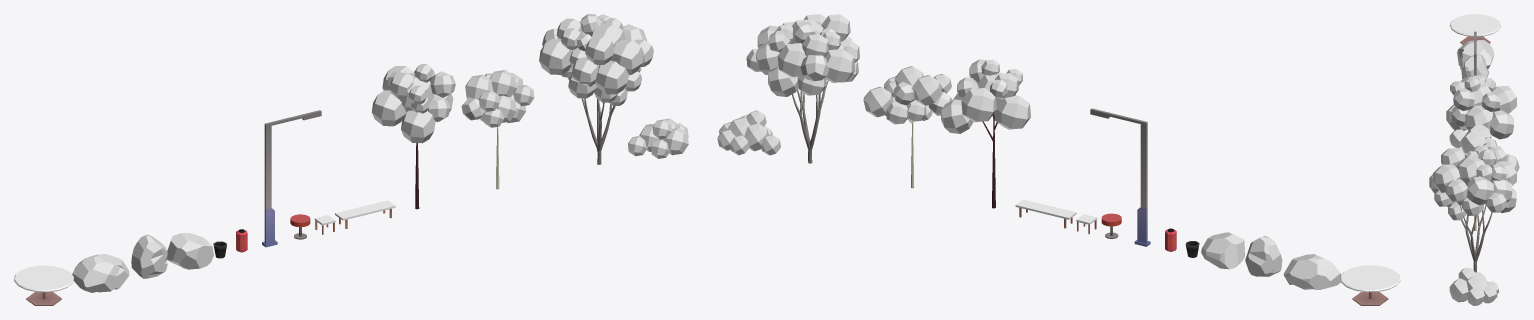
The model's file is props.fbx.
3 renders of one model, left to right at view 1: azimuth 30°, elevation 25°; view 2: azimuth 150°, elevation 25°; view 3: azimuth 270°, elevation 25°, orthographic. The views are drawn at different scales.
Parts seen in each view (by area): view 1: stone1, lamppost, stone3, table, stone2, bush.015, bush.034, bush.046, bush.054, bush.025, bush.050, tree (+7 smaller); view 2: stone1, lamppost, table, stone3, stone2, bush.041, bush.046, bush.015, tree, bush.037, bush.020, bush.044 (+8 smaller); view 3: table, tree, stone1, bush.052, bush.037, bush.025, bush.040, bush.027, bush.041, stone2, bush.016, bush.036 (+33 smaller).
Part boxes in pixels (x1=…): stone1: x1=72, y1=254, x2=129, y2=292; lamppost: x1=262, y1=110, x2=321, y2=247; stone3: x1=167, y1=233, x2=213, y2=269; table: x1=14, y1=265, x2=73, y2=292; stone2: x1=131, y1=234, x2=167, y2=278; bush.015: x1=539, y1=39, x2=572, y2=74; bush.034: x1=401, y1=110, x2=435, y2=143; bush.046: x1=371, y1=90, x2=405, y2=126; bush.054: x1=595, y1=60, x2=628, y2=94; bush.025: x1=610, y1=39, x2=643, y2=74; bush.050: x1=585, y1=35, x2=614, y2=64; tree: x1=581, y1=65, x2=615, y2=164; stone1: x1=1283, y1=254, x2=1341, y2=289; lamppost: x1=1090, y1=108, x2=1150, y2=246; table: x1=1340, y1=265, x2=1400, y2=292; stone3: x1=1201, y1=232, x2=1244, y2=269; stone2: x1=1245, y1=235, x2=1282, y2=276; bush.041: x1=961, y1=88, x2=996, y2=122; bush.046: x1=996, y1=95, x2=1030, y2=129; bush.015: x1=824, y1=49, x2=855, y2=82; tree: x1=792, y1=79, x2=828, y2=163; bush.037: x1=941, y1=99, x2=972, y2=133; bush.020: x1=777, y1=43, x2=806, y2=77; bush.044: x1=912, y1=75, x2=942, y2=105; table: x1=1449, y1=14, x2=1500, y2=36; tree: x1=1459, y1=202, x2=1492, y2=272; stone1: x1=1457, y1=40, x2=1494, y2=69; bush.052: x1=1467, y1=176, x2=1493, y2=205; bush.037: x1=1490, y1=110, x2=1514, y2=139; bush.025: x1=1433, y1=164, x2=1460, y2=192; bush.040: x1=1464, y1=105, x2=1493, y2=131; bush.027: x1=1456, y1=156, x2=1485, y2=185; bush.041: x1=1491, y1=86, x2=1516, y2=113; stone2: x1=1461, y1=54, x2=1489, y2=79; bush.016: x1=1445, y1=179, x2=1467, y2=201; bush.036: x1=1453, y1=88, x2=1474, y2=110.
Size of the model in its own units: 7682 by 1595 by 1060.
